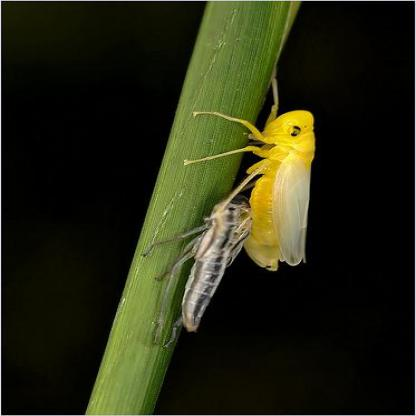Green-Leafhopper: (192, 81, 318, 271), (146, 196, 260, 351)
